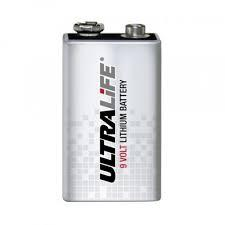9V Battery: (61, 22, 163, 204)
